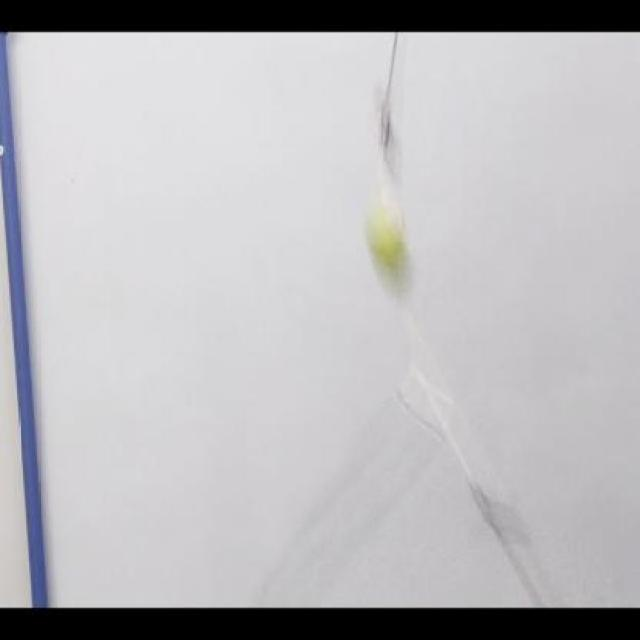baseball: (370, 238, 416, 267)
